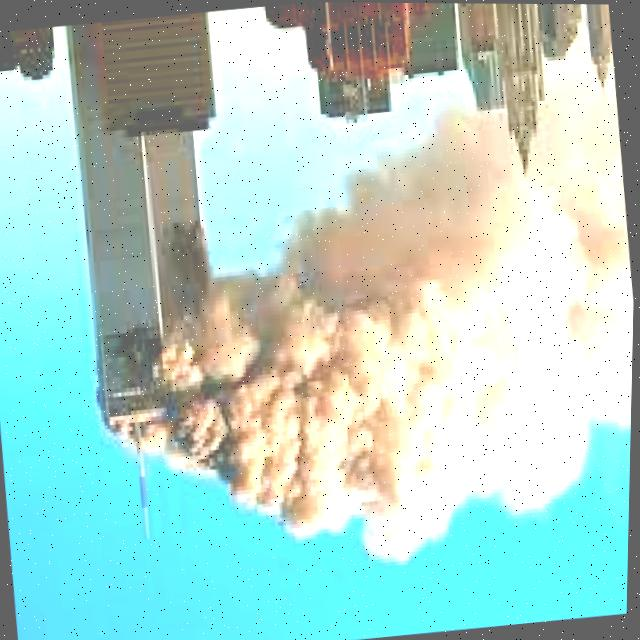Smoke: (108, 58, 639, 606)
